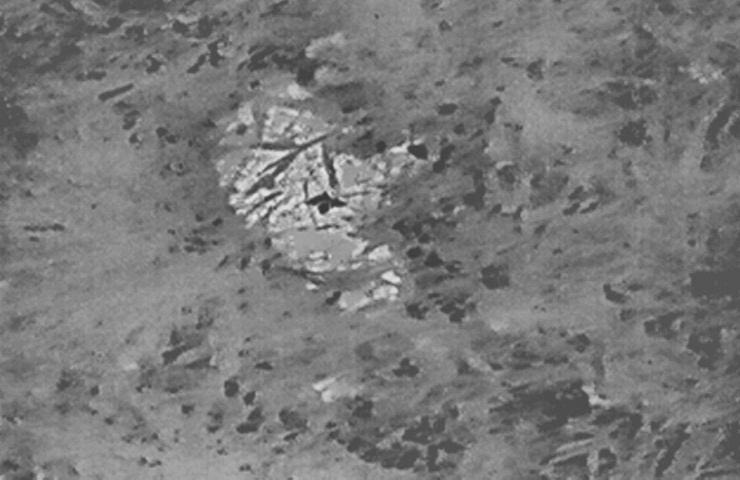landmines: (213, 73, 437, 319)
